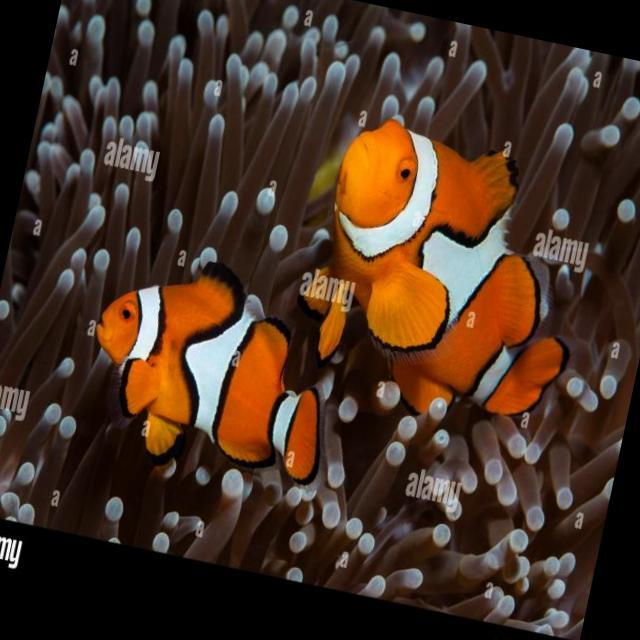ClownFish: (293, 109, 607, 432), (72, 240, 351, 493)
